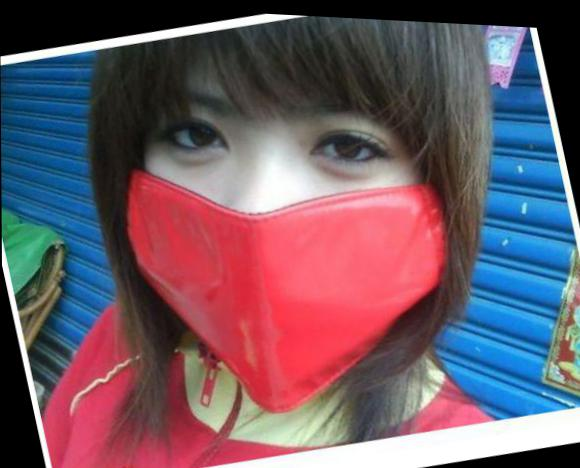WRONG: (106, 46, 456, 413)
